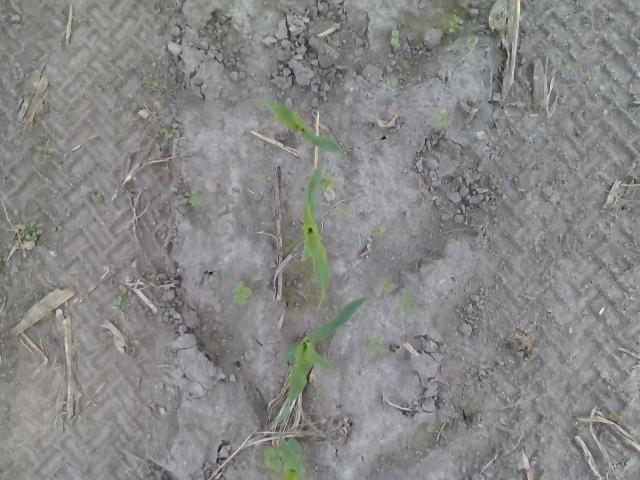Maize: (276, 295, 368, 424), (246, 97, 346, 161), (298, 160, 332, 300), (282, 436, 306, 480)
Weeds: (34, 144, 62, 169), (392, 294, 420, 319), (232, 279, 254, 306), (261, 444, 282, 472), (176, 184, 202, 206), (17, 219, 42, 240), (110, 284, 128, 308), (366, 334, 386, 354), (430, 109, 449, 129), (446, 14, 465, 34), (377, 274, 394, 292), (143, 79, 160, 94), (319, 176, 335, 191), (158, 126, 178, 138), (256, 140, 273, 154), (90, 192, 106, 204), (390, 29, 400, 47), (336, 206, 352, 216), (462, 38, 474, 51), (398, 57, 409, 70), (385, 78, 398, 89), (608, 412, 622, 422), (534, 357, 545, 369), (374, 226, 384, 238), (108, 61, 120, 71), (72, 342, 82, 353), (125, 192, 136, 202), (539, 472, 552, 480), (262, 174, 272, 183), (531, 22, 540, 32), (46, 307, 54, 317), (447, 346, 456, 354), (510, 474, 522, 480), (72, 15, 82, 22)
